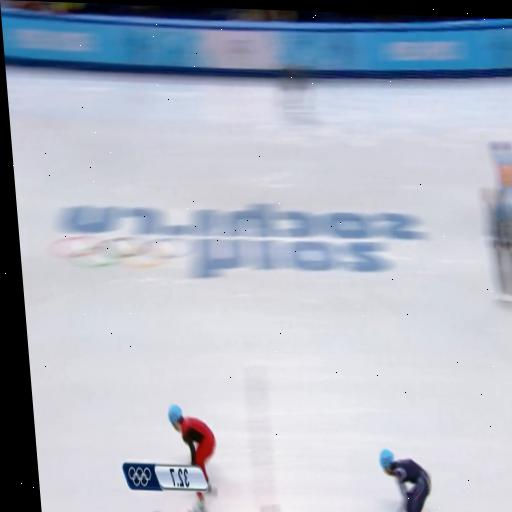Skater: (167, 405, 215, 491), (379, 450, 430, 511)
